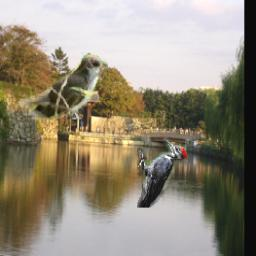Cuckoo: (20, 53, 109, 119)
Woodpecker: (138, 139, 188, 209)
